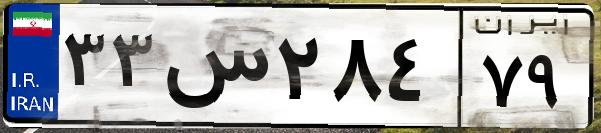2: (270, 28, 330, 110)
3: (57, 26, 110, 100), (110, 28, 158, 98)
4: (385, 28, 445, 110)
7: (475, 38, 525, 113)
8: (330, 28, 385, 110)
9: (525, 38, 570, 115)
س: (158, 20, 270, 120)
